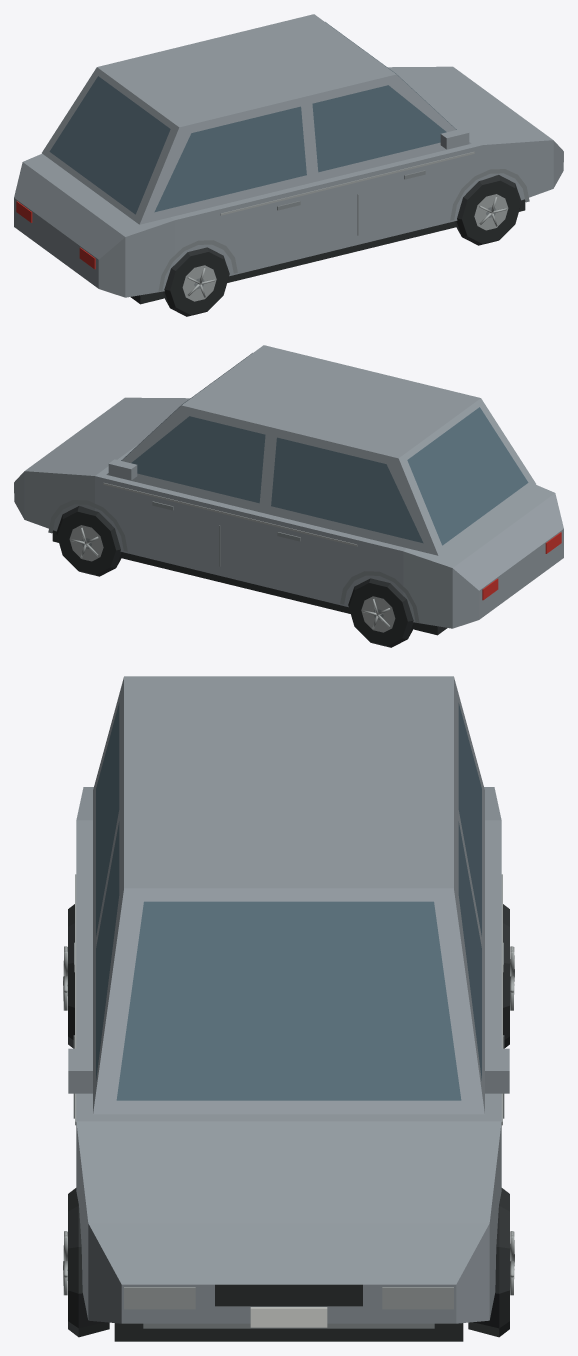
Rendered from SM_MPR3_Car_1.fbx.
3 views of the same model, one above another, from view 1: azimuth 30°, elevation 25°; view 2: azimuth 150°, elevation 25°; view 3: azimuth 270°, elevation 25° (orthographic). The views are drawn at different scales.
Visible parts, largest first — view 1: SM_MPR3_Car_1; view 2: SM_MPR3_Car_1; view 3: SM_MPR3_Car_1.
Part boxes in pixels (x1=…): SM_MPR3_Car_1: x1=14, y1=14, x2=563, y2=316; SM_MPR3_Car_1: x1=14, y1=345, x2=563, y2=647; SM_MPR3_Car_1: x1=63, y1=676, x2=514, y2=1341.
Size of the model in its own units: 452 by 189 by 166.
